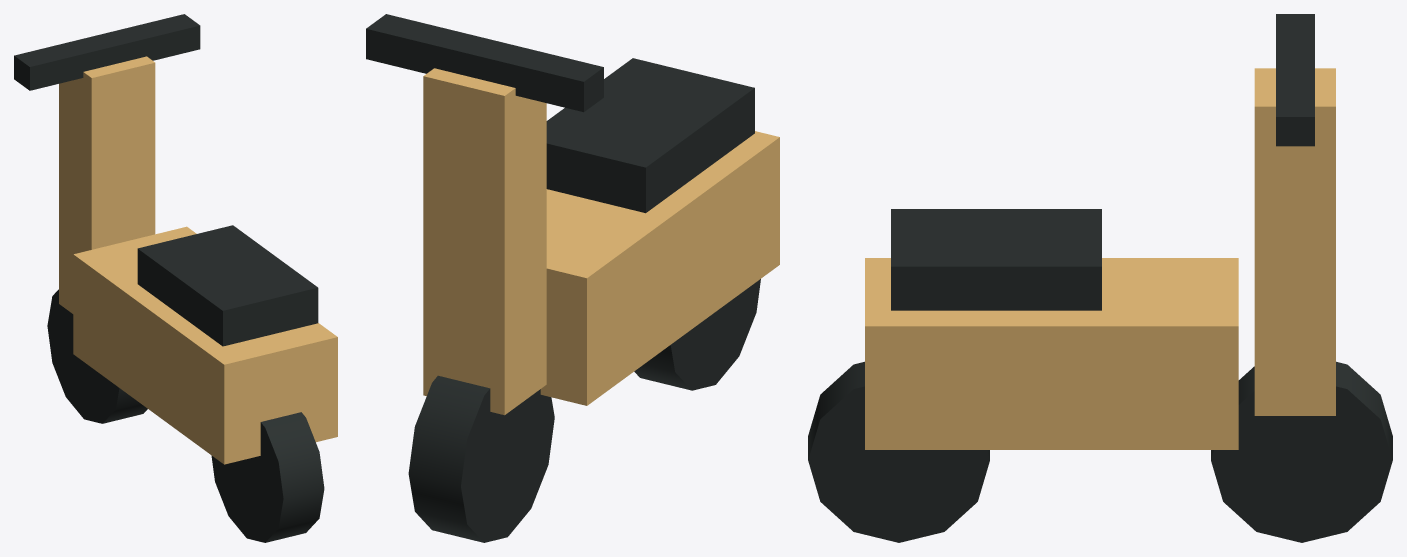
File: scooter.glb
3 views of the same model, side by side, from view 1: azimuth 30°, elevation 25°; view 2: azimuth 150°, elevation 25°; view 3: azimuth 270°, elevation 25° (orthographic). The views are drawn at different scales.
Parts seen in each view (by area): view 1: _MeshInstance3D_431, _MeshInstance3D_433, _MeshInstance3D_432, _MeshInstance3D_430, _MeshInstance3D_434, _MeshInstance3D_429; view 2: _MeshInstance3D_431, _MeshInstance3D_433, _MeshInstance3D_432, _MeshInstance3D_429, _MeshInstance3D_434, _MeshInstance3D_430; view 3: _MeshInstance3D_431, _MeshInstance3D_433, _MeshInstance3D_432, _MeshInstance3D_429, _MeshInstance3D_430, _MeshInstance3D_434.
Part boxes in pixels (bbox=[...]): _MeshInstance3D_431: bbox=[73, 226, 337, 464]; _MeshInstance3D_433: bbox=[59, 56, 155, 313]; _MeshInstance3D_432: bbox=[137, 225, 318, 346]; _MeshInstance3D_430: bbox=[211, 412, 324, 542]; _MeshInstance3D_434: bbox=[14, 14, 200, 90]; _MeshInstance3D_429: bbox=[47, 289, 147, 423]; _MeshInstance3D_431: bbox=[540, 131, 779, 405]; _MeshInstance3D_433: bbox=[423, 68, 546, 415]; _MeshInstance3D_432: bbox=[546, 58, 754, 213]; _MeshInstance3D_429: bbox=[408, 375, 554, 542]; _MeshInstance3D_434: bbox=[366, 14, 603, 112]; _MeshInstance3D_430: bbox=[634, 279, 760, 390]; _MeshInstance3D_431: bbox=[865, 258, 1238, 449]; _MeshInstance3D_433: bbox=[1254, 68, 1335, 415]; _MeshInstance3D_432: bbox=[891, 209, 1101, 310]; _MeshInstance3D_429: bbox=[1211, 361, 1392, 542]; _MeshInstance3D_430: bbox=[808, 361, 989, 542]; _MeshInstance3D_434: bbox=[1276, 14, 1314, 146].
Size of the model in its own units: 0.75 by 1.58 by 1.8.
